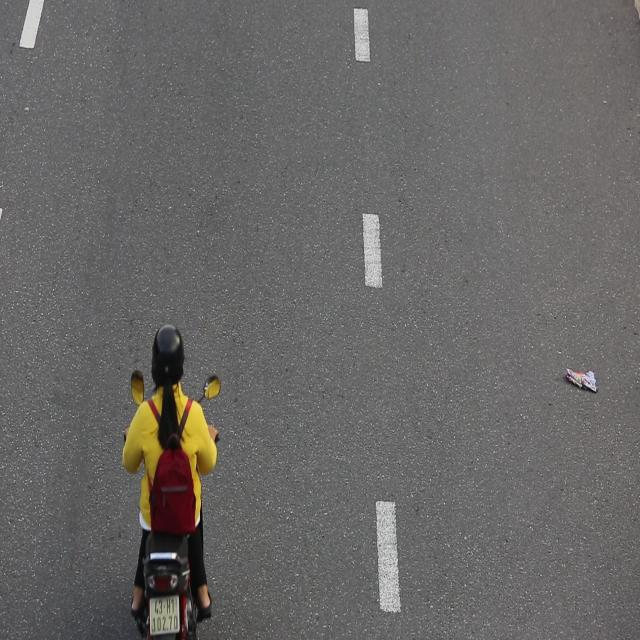motorbike: (114, 322, 228, 640)
